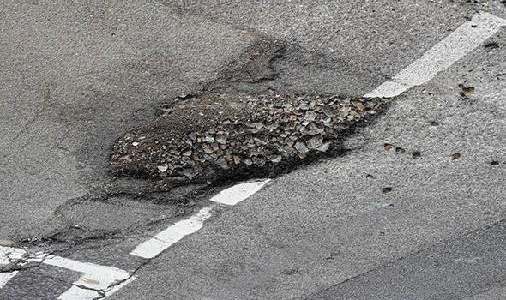pothole: (105, 86, 397, 202), (226, 34, 289, 86), (17, 223, 116, 252)
